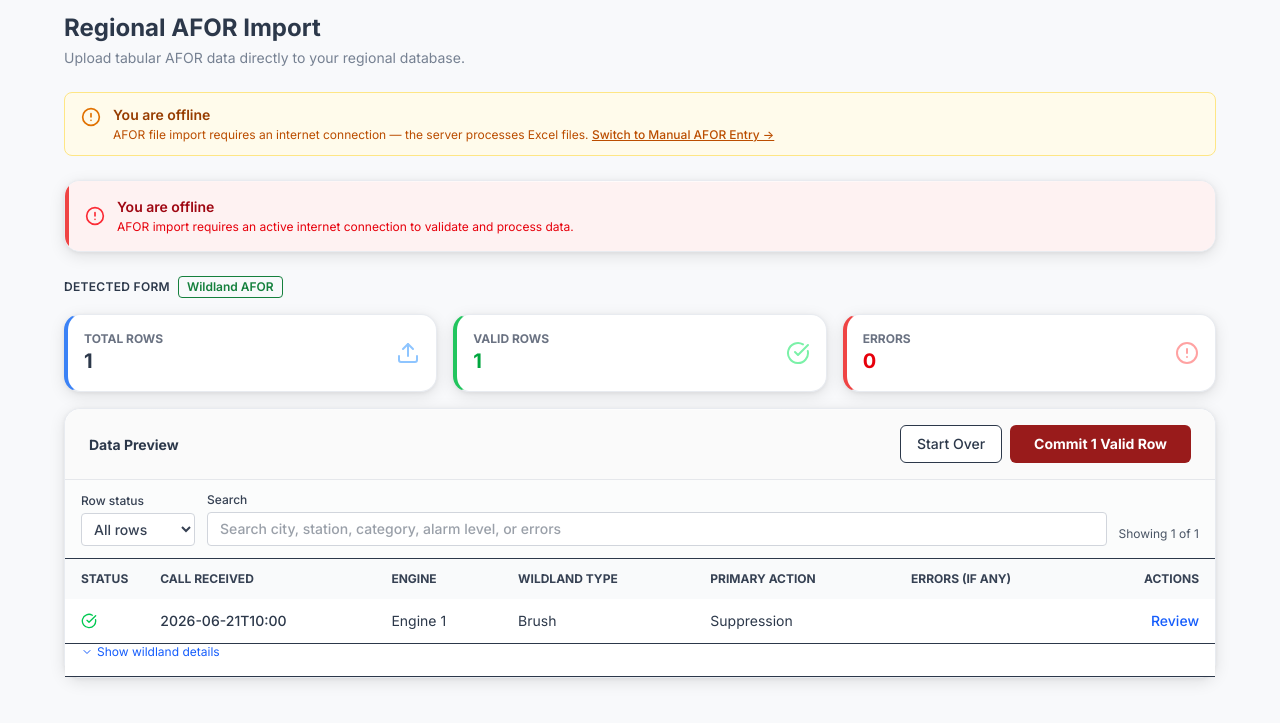
Test: AFOR import page — Wildland AFOR deprecation › shows deprecation message when committing Wildland AFOR and stays on page
The width and height of the screenshot is (1280, 723).
Note: Click the commit button
Click the button "Commit 1 Valid Row": (1101, 444) [1010,425,1191,463]
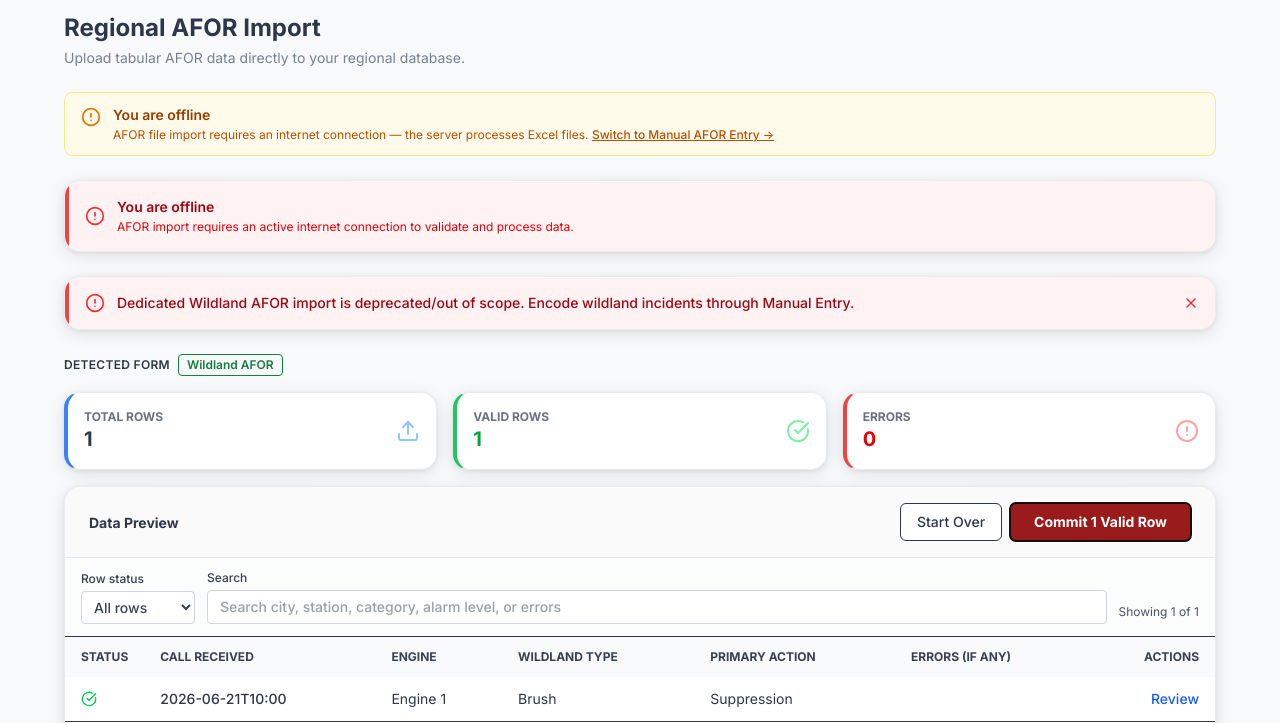
Expected: the button "Commit 1 Valid Row" is shown, [1010,503,1191,541]
Expected: the text "Dedicated Wildland AFOR import is deprecated" is shown, [117,294,854,311]
